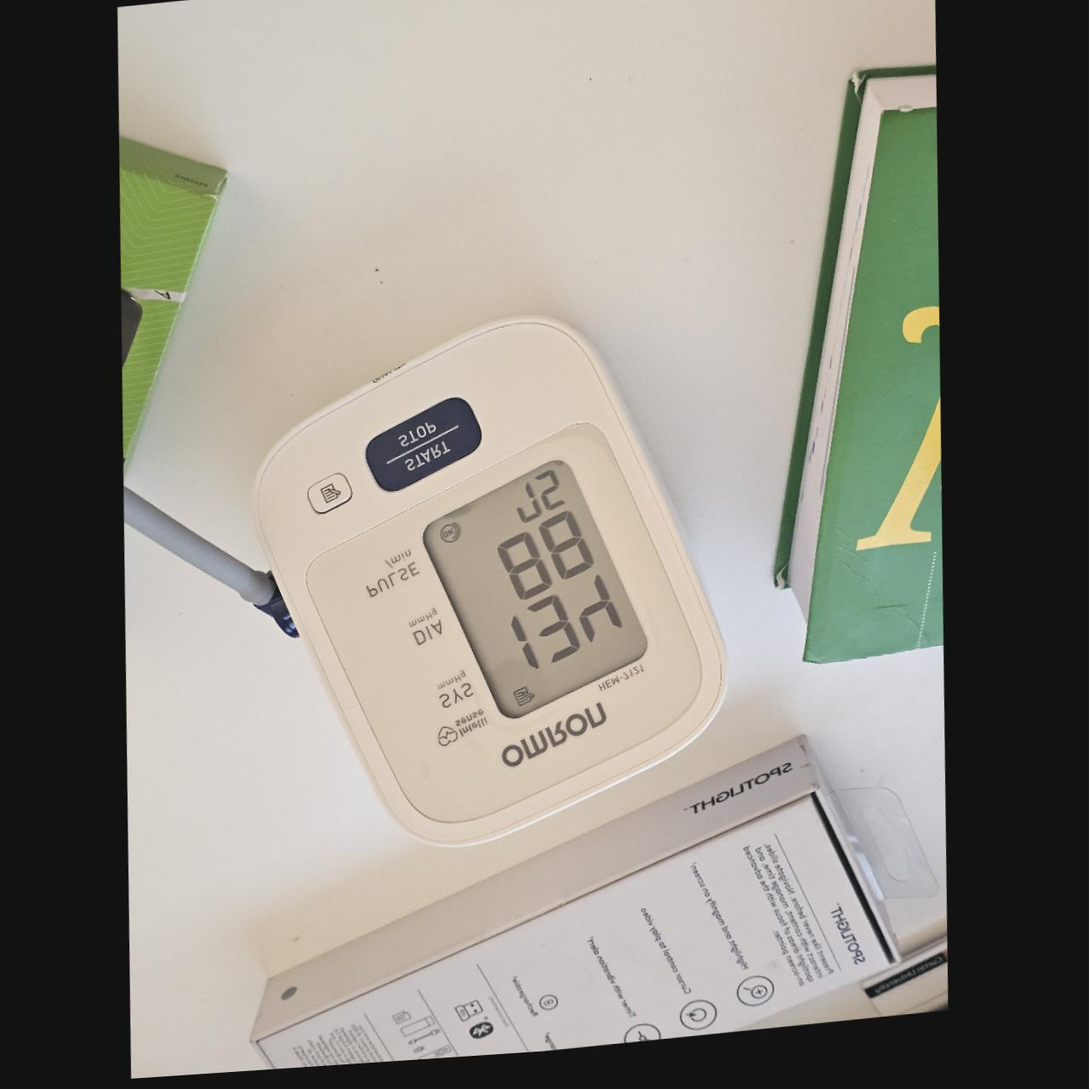blood pressure monitor: (234, 290, 742, 872)
